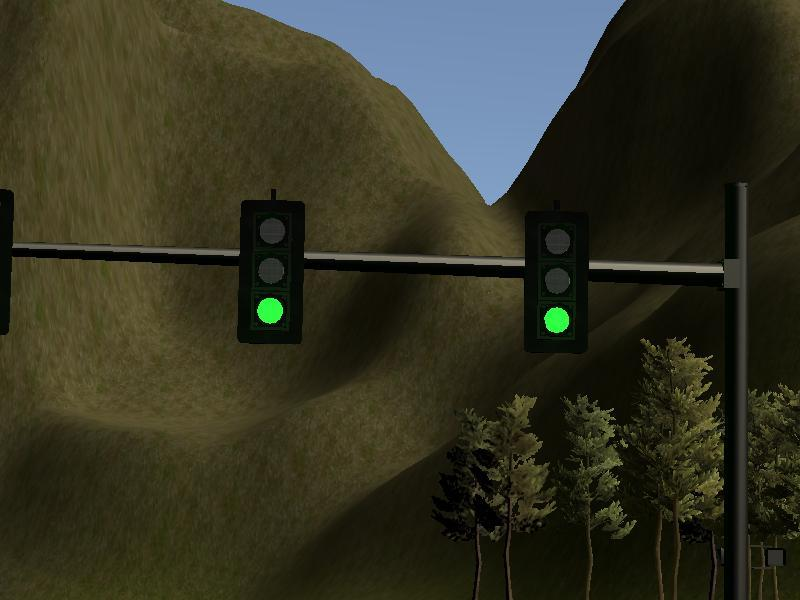Green: (527, 219, 589, 354), (243, 203, 303, 339)
